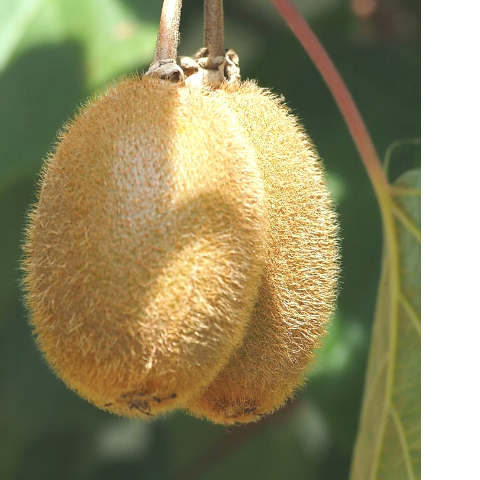kiwi: (20, 50, 267, 447)
